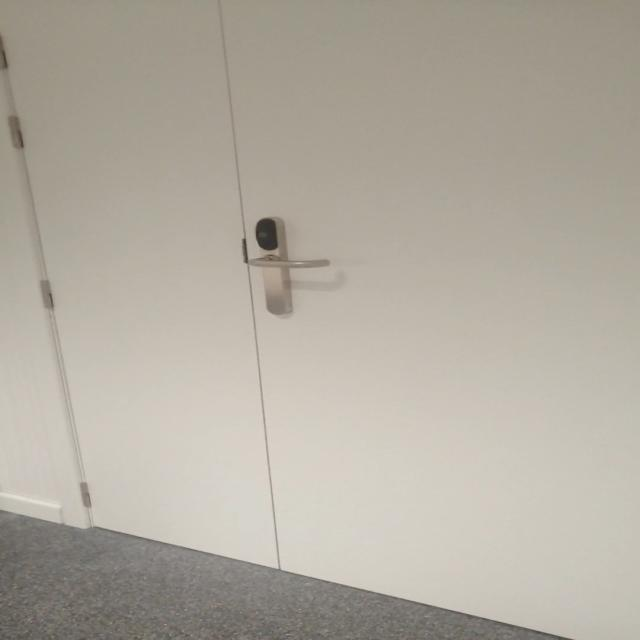door_handle: (244, 253, 337, 271)
